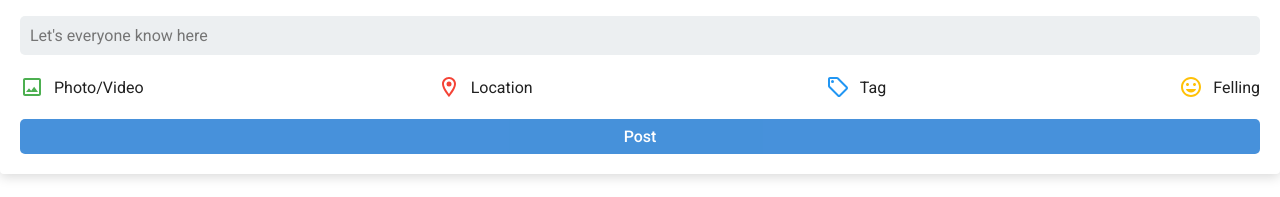
Button post is disabled if input is empty
The image size is (1280, 197).
Check: the button "Post" is disabled, box [20,119,1260,154]
Type "Hi" into the field at {"x": 640, "y": 36}, box [20,16,1260,55]
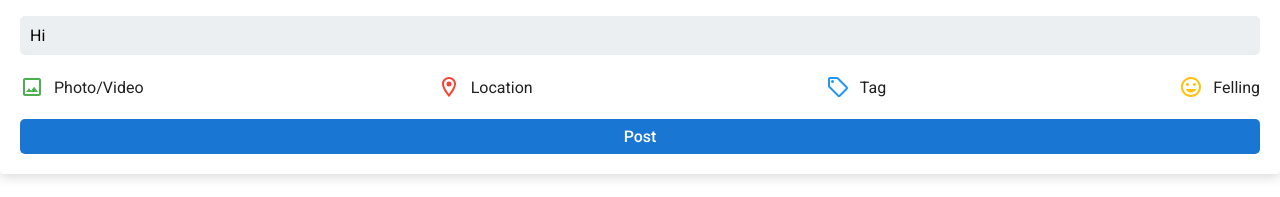
Check: the button "Post" is enabled, box [20,119,1260,154]
Clear the field at {"x": 640, "y": 36}, box [20,16,1260,55]
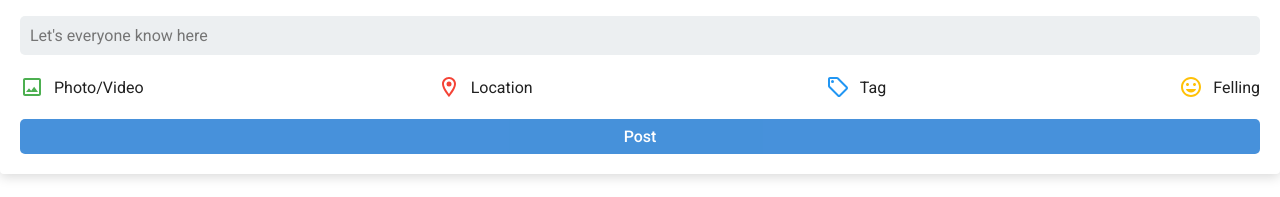
Check: the button "Post" is disabled, box [20,119,1260,154]
